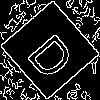D: (25, 25, 84, 83)
